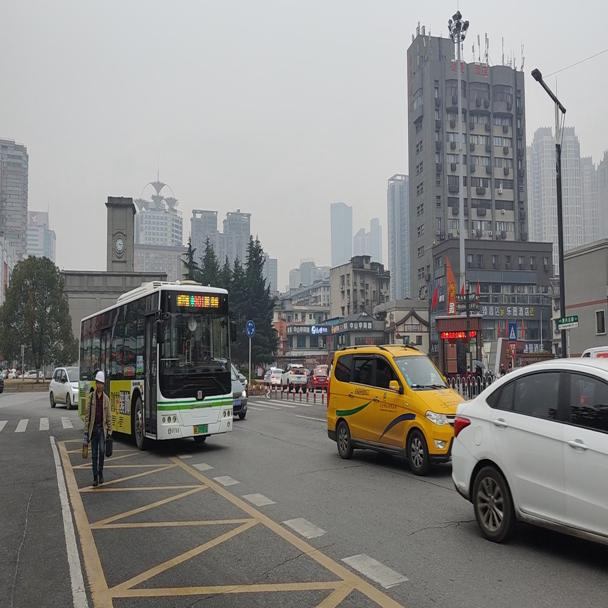bus: (77, 274, 237, 450)
screen: (194, 294, 204, 306)
